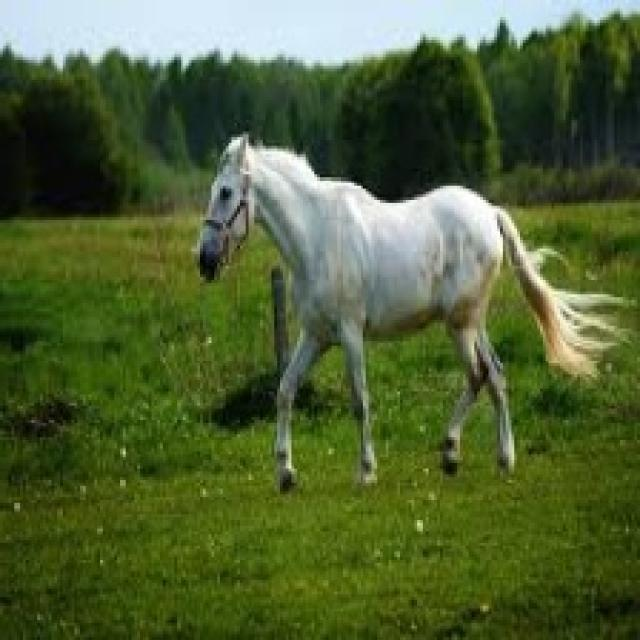bear: (157, 81, 611, 505)
